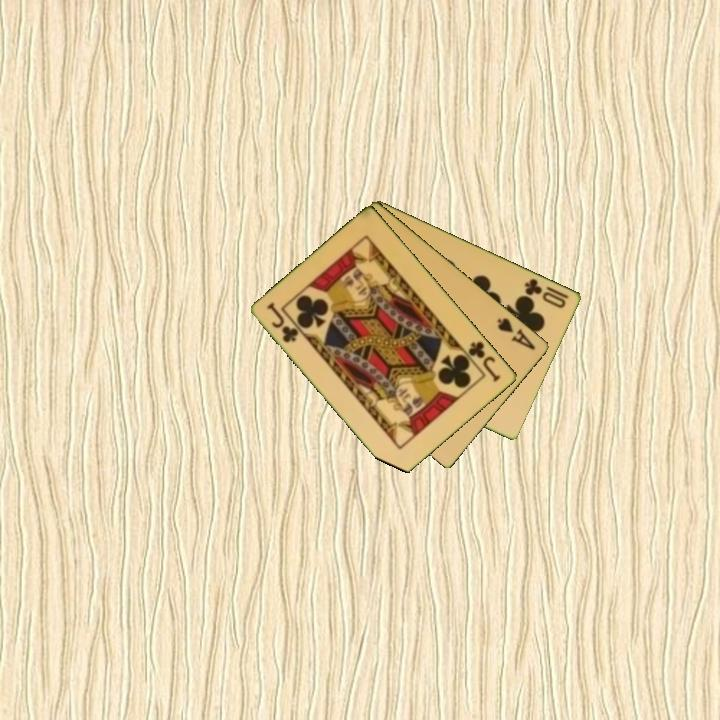10c: (521, 275, 572, 311)
As: (494, 314, 538, 353)
Jc: (465, 337, 504, 385), (264, 299, 302, 346)
